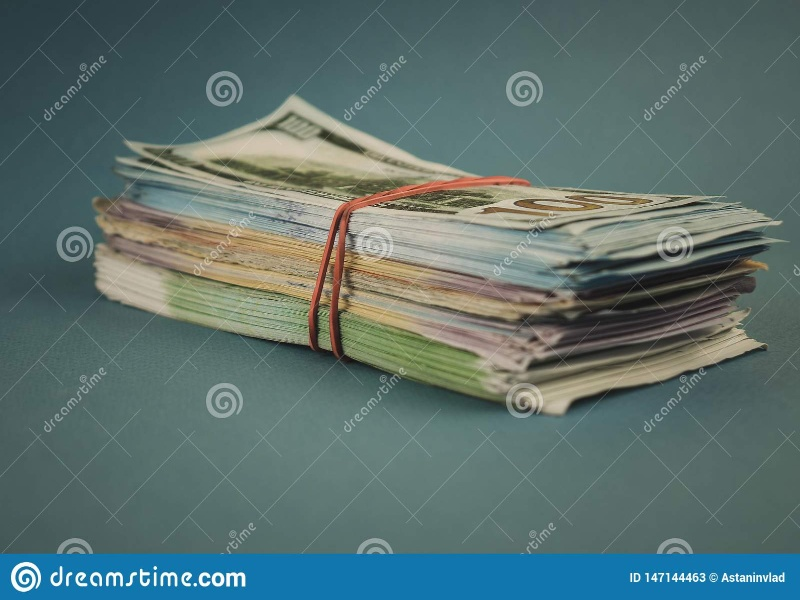cash: (94, 96, 786, 415)
